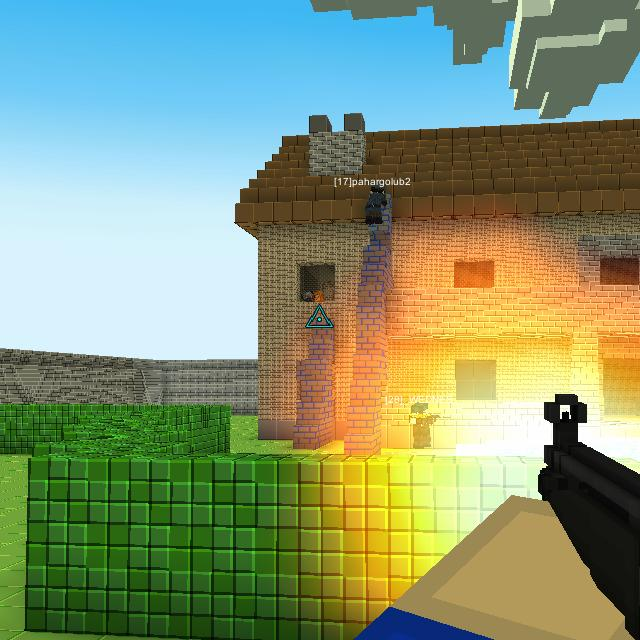enemy: (302, 289, 324, 302)
